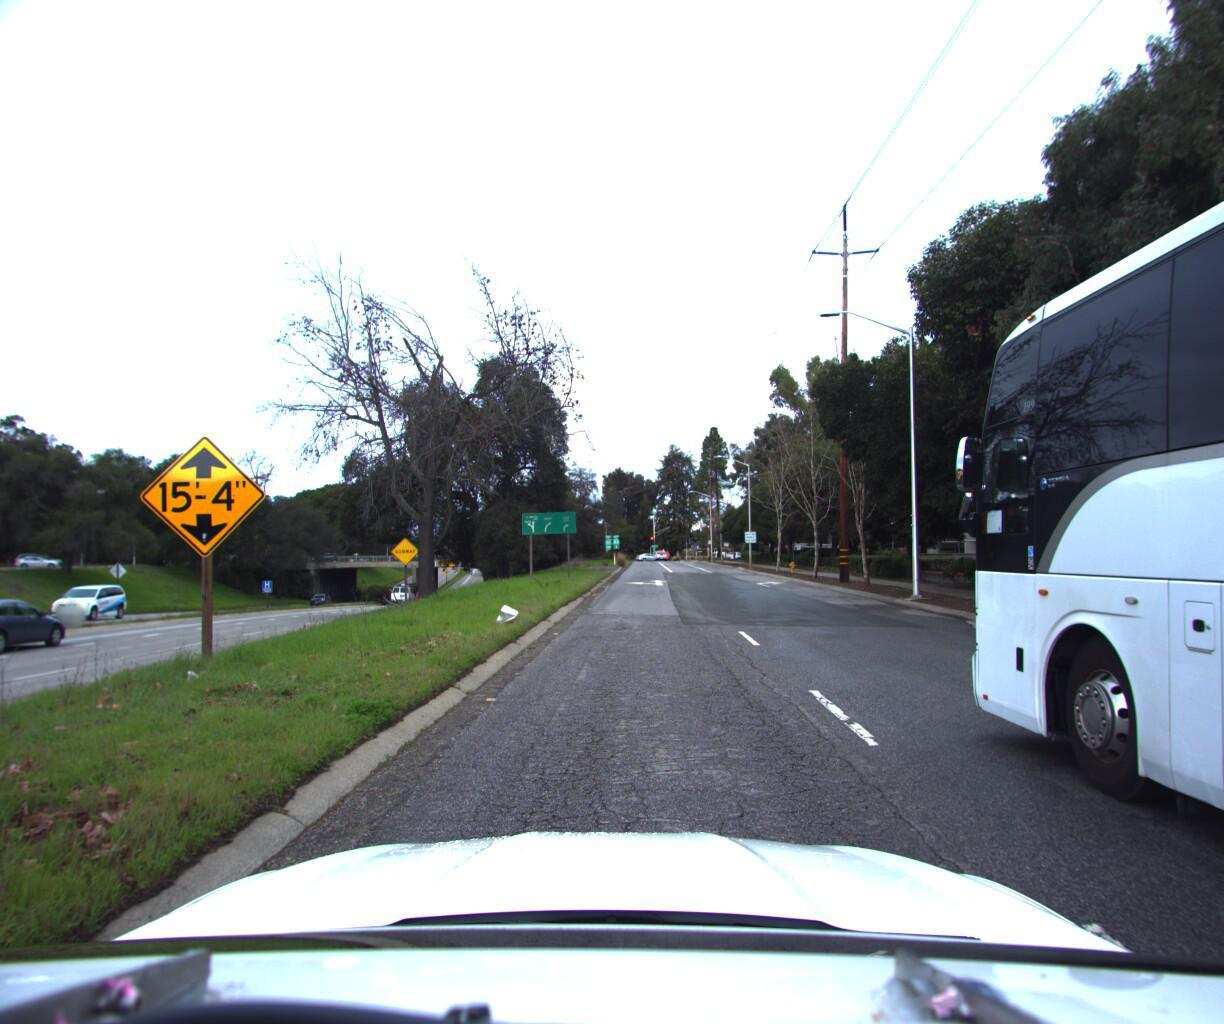car: (0, 590, 81, 662), (50, 578, 134, 621)
